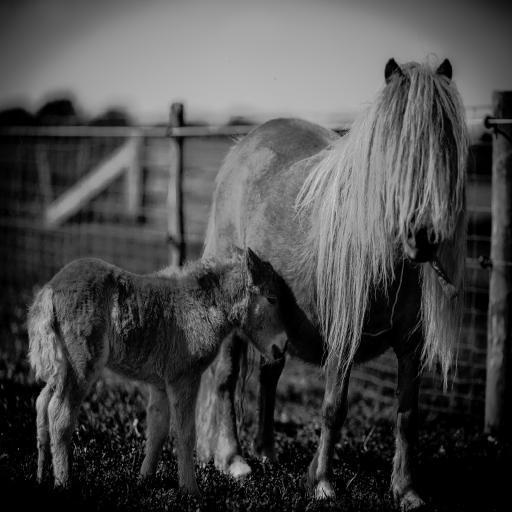horse: (194, 56, 468, 512), (24, 244, 286, 490)
